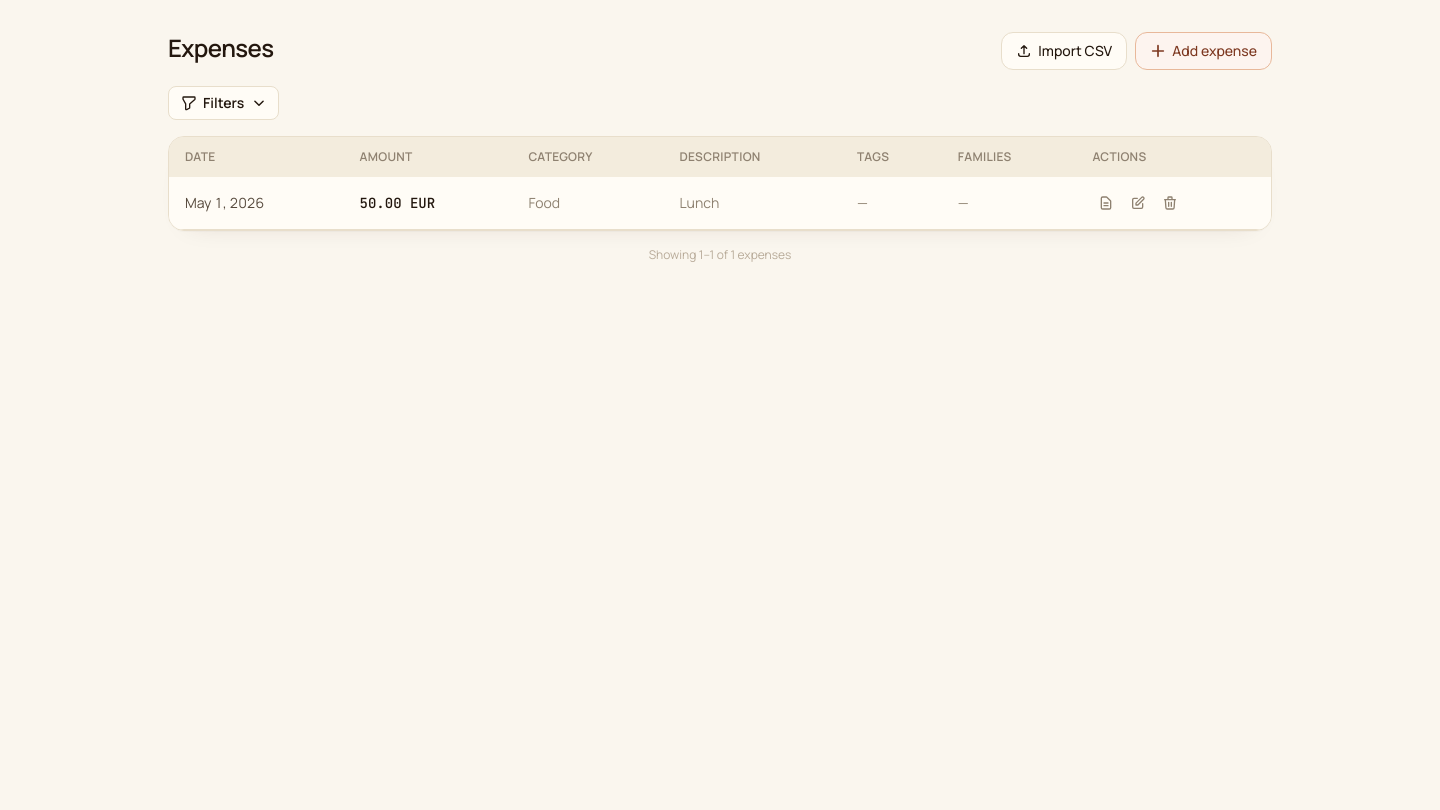
ExpensesPage › receipt › closes the receipt modal via the close button
This screenshot has width=1440, height=810.
Expected: the table is shown, [169, 137, 1271, 230]
Step 1. Click the button named "view receipt" → (1106, 203), box [1092, 189, 1120, 217]
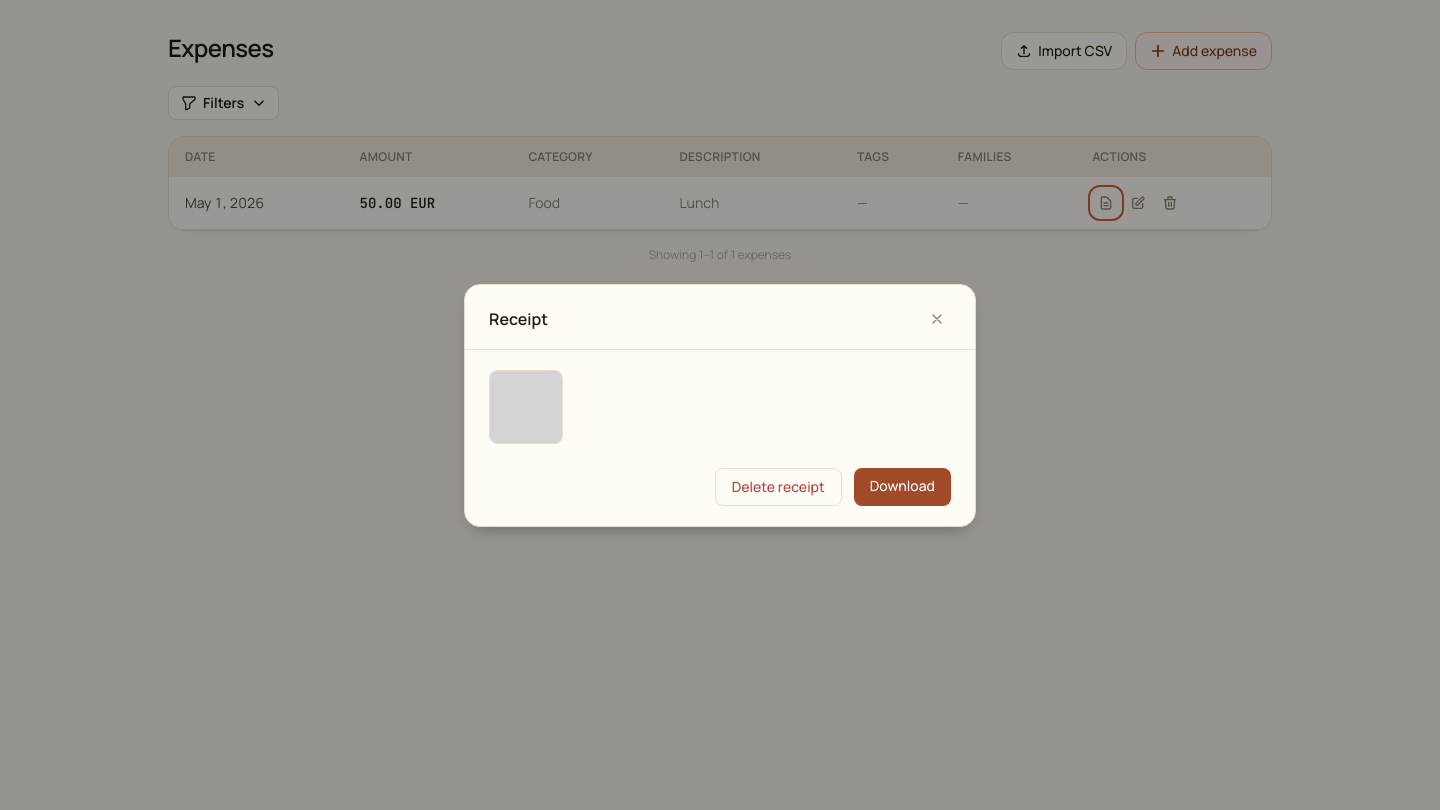
Step 2. Click the button named "close" → (937, 318), box [923, 304, 951, 332]
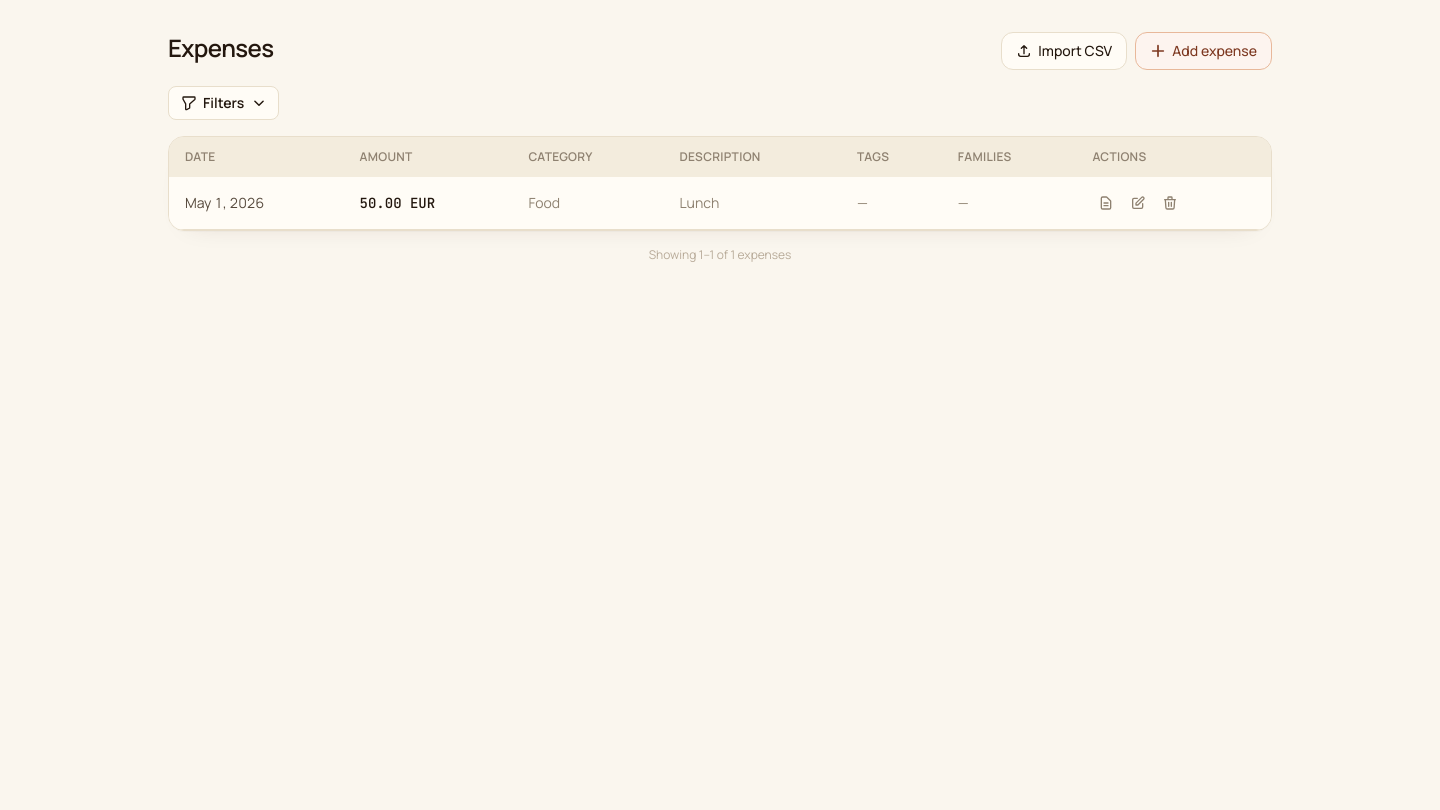
Expected: the dialog is gone
